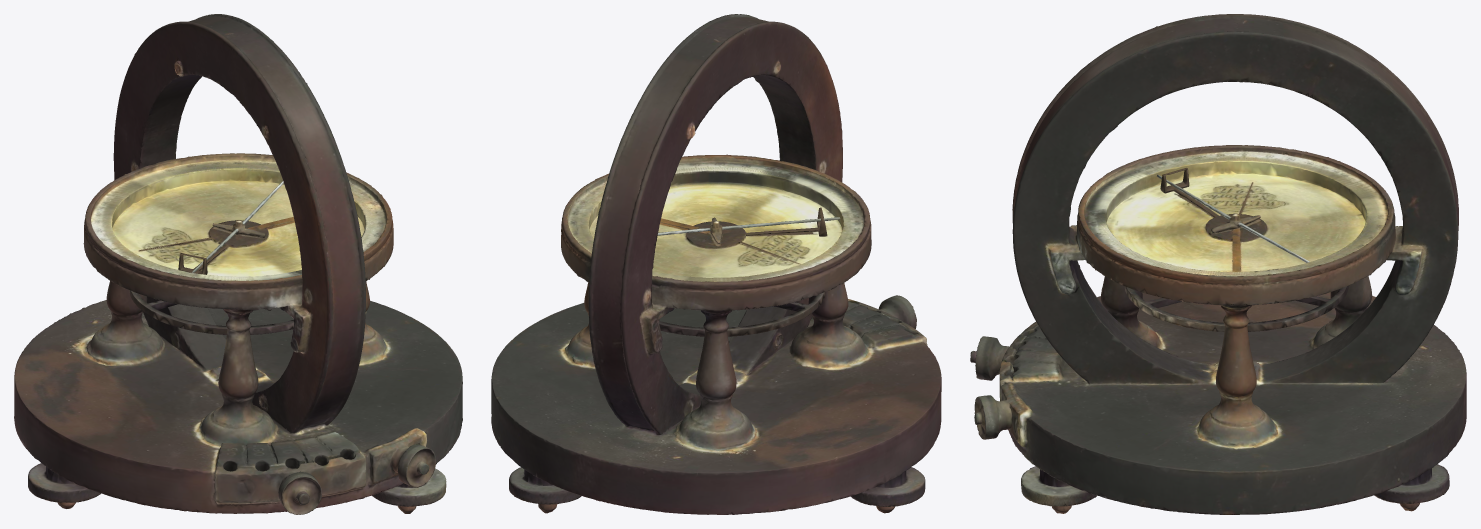
Rendered from tangent-galvanometer-5fc32b5d65.glb.
The picture shows the model from 3 angles, left to right: view 1: azimuth 30°, elevation 25°; view 2: azimuth 150°, elevation 25°; view 3: azimuth 270°, elevation 25°; orthographic projection. The views are drawn at different scales.
Size of the model in its own units: 0.1375 by 0.1442 by 0.1445.
1 material, 1 textured.
